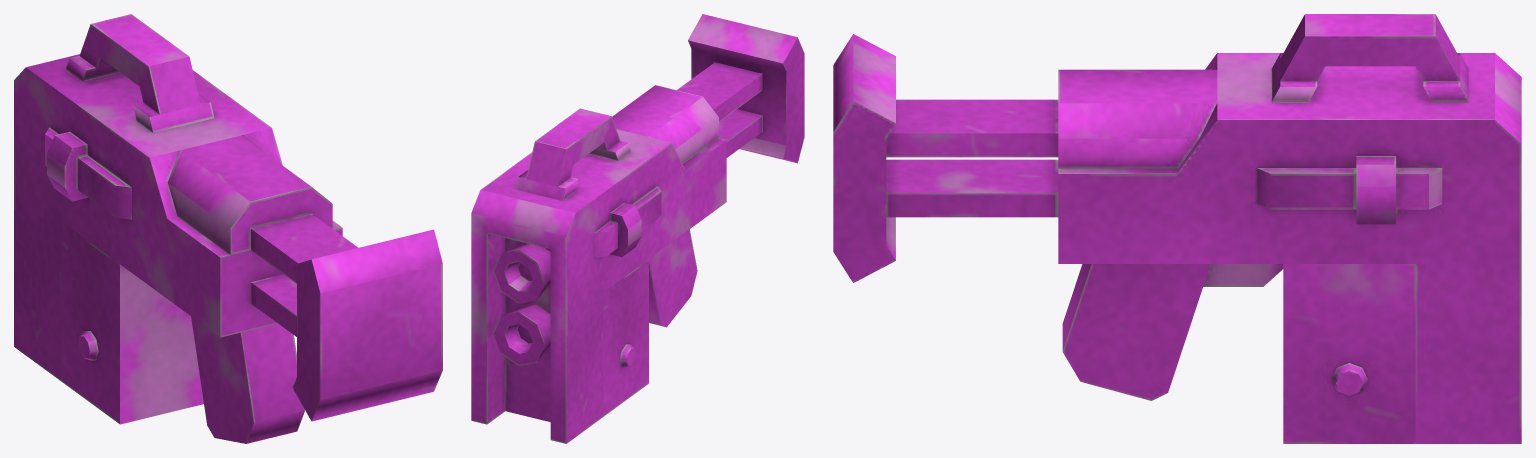
File: blaster-i.glb
The picture shows the model from 3 angles, left to right: view 1: azimuth 30°, elevation 25°; view 2: azimuth 150°, elevation 25°; view 3: azimuth 270°, elevation 25°; orthographic projection. The views are drawn at different scales.
Visible parts, largest first — view 1: blaster-i; view 2: blaster-i; view 3: blaster-i.
Boxes of the visible parts, x1,y1,x2,y2 form: blaster-i: [14, 14, 442, 443]; blaster-i: [471, 14, 804, 443]; blaster-i: [833, 14, 1521, 443].
Bounding box in the file's own units: 0.165 × 0.32 × 0.52.
Materials: 1 (1 with a texture image).
